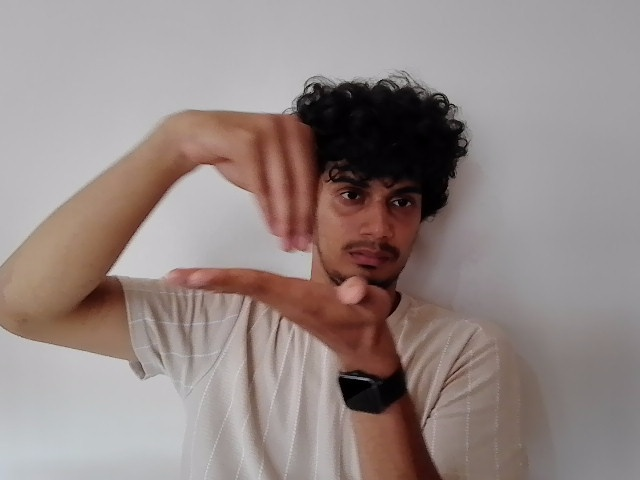learn: (179, 108, 391, 339)
